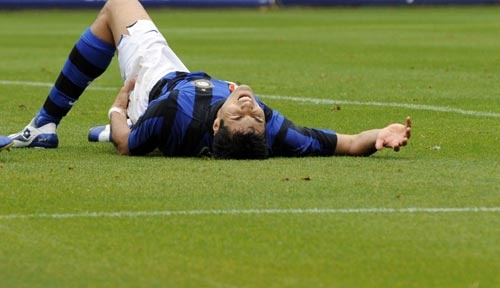falling: (14, 4, 421, 159)
